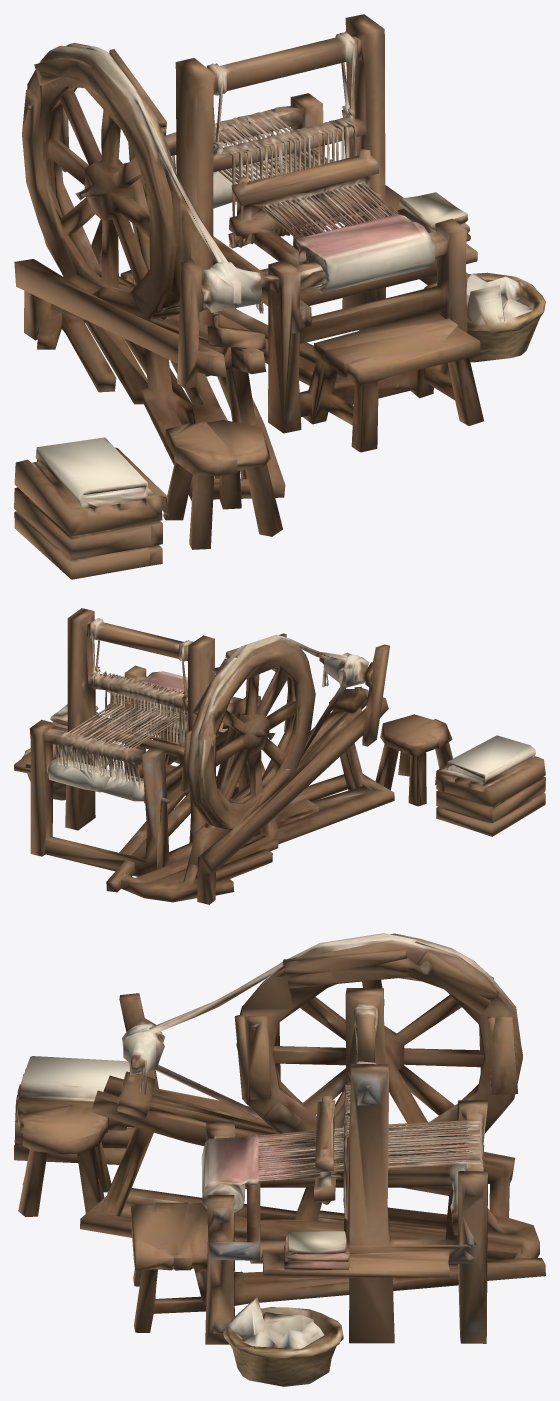
File: zhibu-2.glb
The picture shows the model from 3 angles, top to bottom: view 1: azimuth 30°, elevation 25°; view 2: azimuth 150°, elevation 25°; view 3: azimuth 270°, elevation 25°; orthographic projection. The views are drawn at different scales.
Visible parts, largest first — view 1: node_0; view 2: node_0; view 3: node_0.
Boxes of the visible parts, <box> form: node_0: <box>14,14,545,579</box>; node_0: <box>14,608,545,904</box>; node_0: <box>14,933,545,1386</box>.
Size of the model in its own units: 0.8729 by 0.4497 by 0.7329.
Materials: 1 (1 with a texture image).
